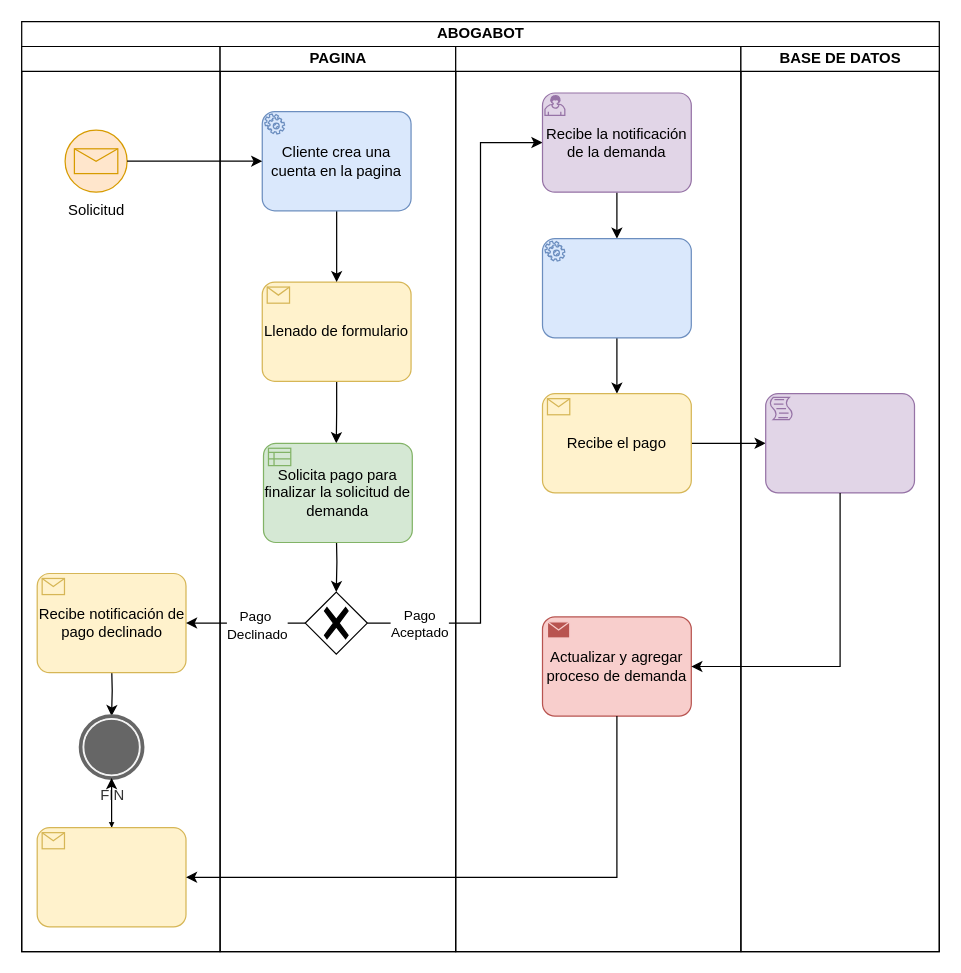
Some shapes in this 961 by 973 pixel diagram are drawn without their labels. The shapes that lost their labels are listed below. From the top down, each one's box as (x1, y1, x2, y2) in pixels, then its label:
(541, 237, 691, 338): Crea un documento Word de la demanda
(764, 392, 914, 493): Visualizar dashboard
(20, 45, 220, 952): CLIENTE
(454, 45, 741, 952): ABOGADO
(304, 591, 367, 654): aprobación de pago
(36, 826, 186, 927): Recibe notificaciones por correo de los avances del proceso
